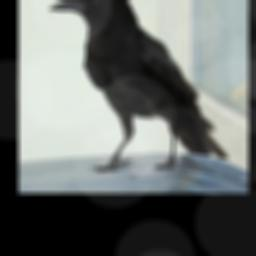Crow: (46, 0, 227, 174)
